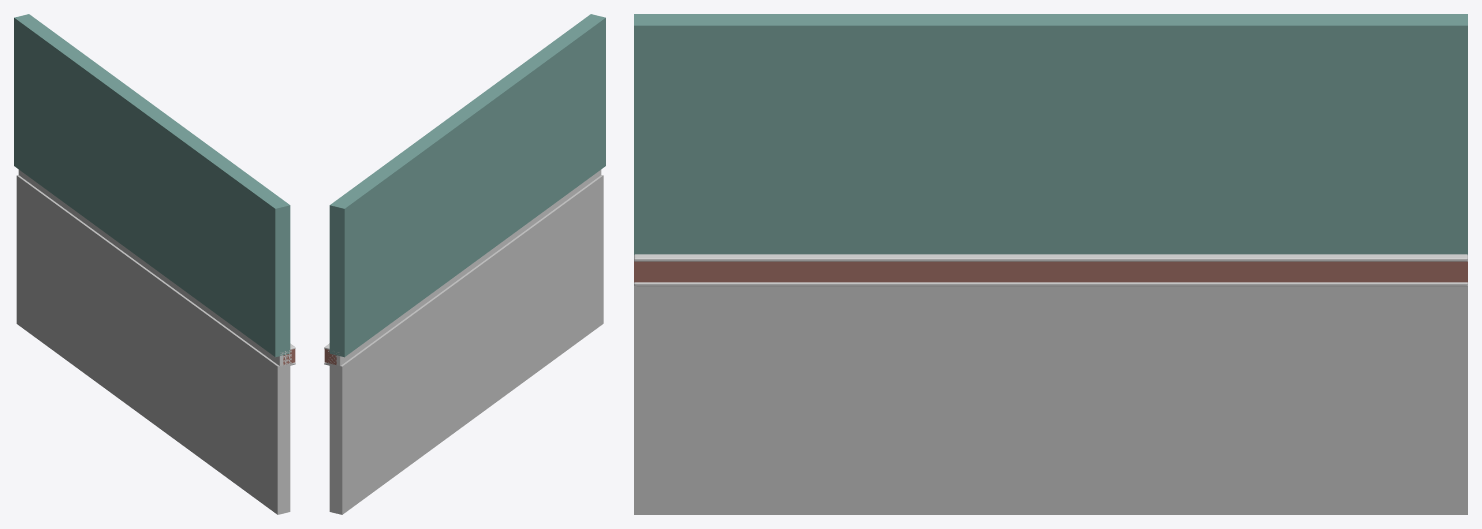
The model's file is wall2.fbx.
The picture shows the model from 3 angles, left to right: view 1: azimuth 30°, elevation 25°; view 2: azimuth 150°, elevation 25°; view 3: azimuth 270°, elevation 25°; orthographic projection. The views are drawn at different scales.
Visible parts, largest first — view 1: wall8wall2, wall2wall2, wall2wall7; view 2: wall8wall2, wall2wall2, wall2wall7; view 3: wall8wall2, wall2wall2, wall2wall9, wall2wall7.
Part boxes in pixels (x1,y1,x2,y2): wall8wall2: (14,14,290,357); wall2wall2: (16,175,290,514); wall2wall7: (18,169,295,366); wall8wall2: (329,14,605,357); wall2wall2: (329,175,603,514); wall2wall7: (324,170,601,365); wall8wall2: (634,14,1467,255); wall2wall2: (634,284,1467,514); wall2wall9: (634,261,1467,282); wall2wall7: (634,254,1467,286).
Bounding box in the file's own units: 0.7273 × 10.36 × 16.
